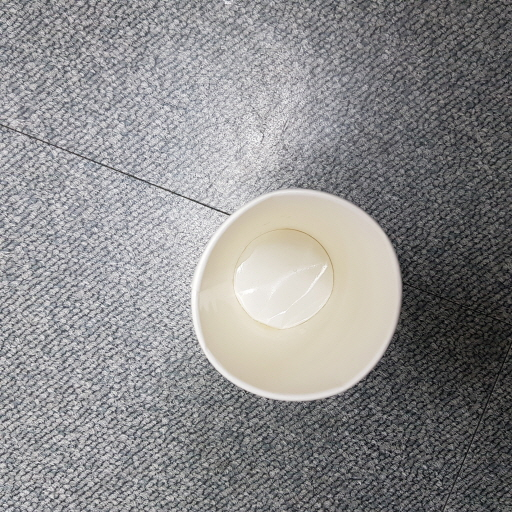Paper_1: (192, 184, 402, 404)
